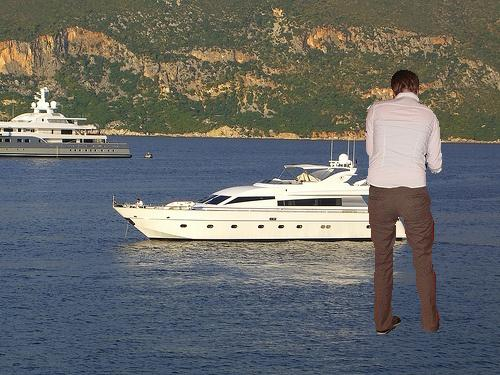tampered: (366, 71, 442, 334)
